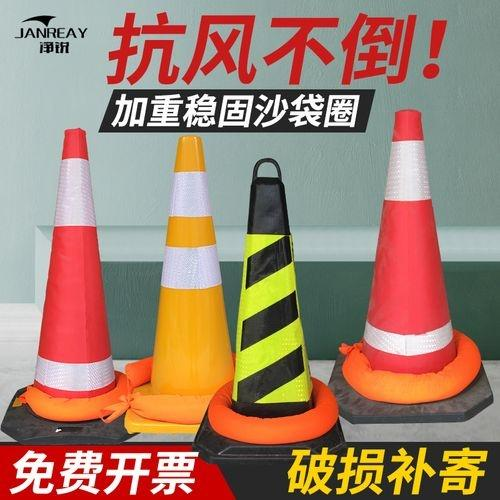cone_barrel: (347, 110, 473, 378), (24, 131, 129, 404), (135, 137, 233, 404), (223, 160, 319, 419)
